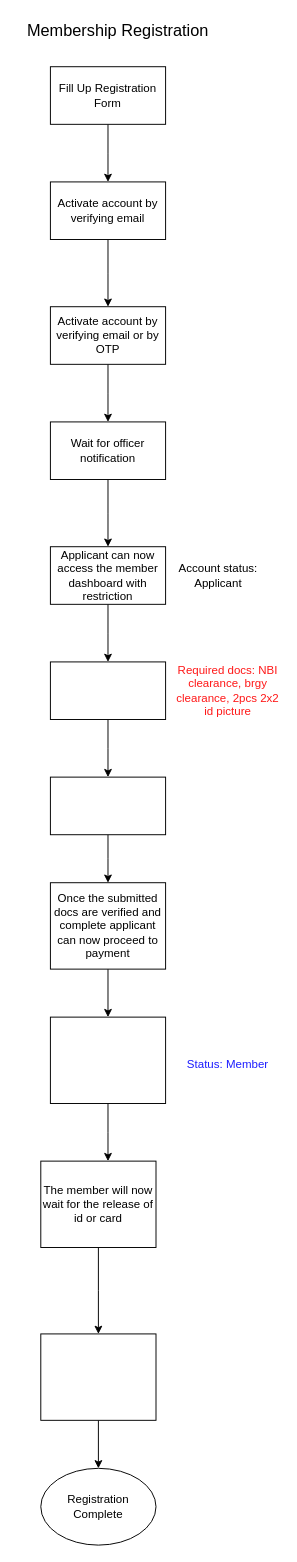
Image size: 297x1562. Some labels were removed from this diagram. The shapes that lost their labels are listed below. From the top down, each one's centre as x and y in pixels, then its label:
At (x=107, y=690): "Applicant can now submit required documents".
At (x=107, y=805): "Officer will check the submitted document via admin dashboard".
At (x=107, y=1060): "After settling payment the applicant status will be updated".
At (x=98, y=1376): "The member will now have full access to member dashboard".
